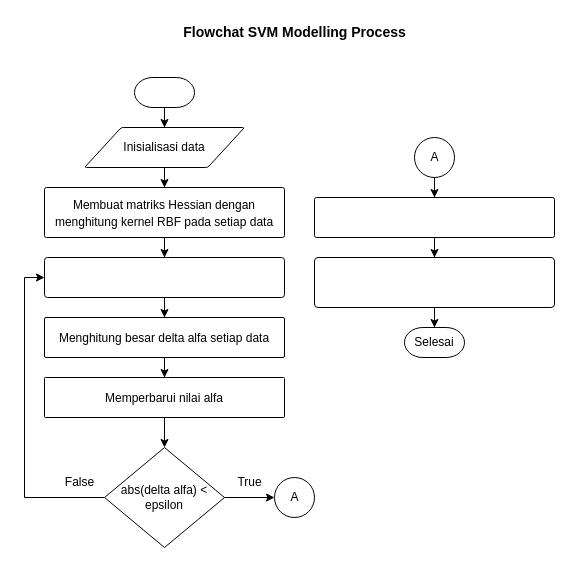
This 572x565 diagram has some shape labels left out. Here are the shapes that lost their labels. From the top down, the centre of each, then its label:
At point 164,92: "Mulai".
At point 434,217: "Mencari nilai bias".
At point 164,277: "Menghitung Error setiap data".
At point 434,282: "Melakukan uji coba data menggunakan nilai alfa dan bias".
